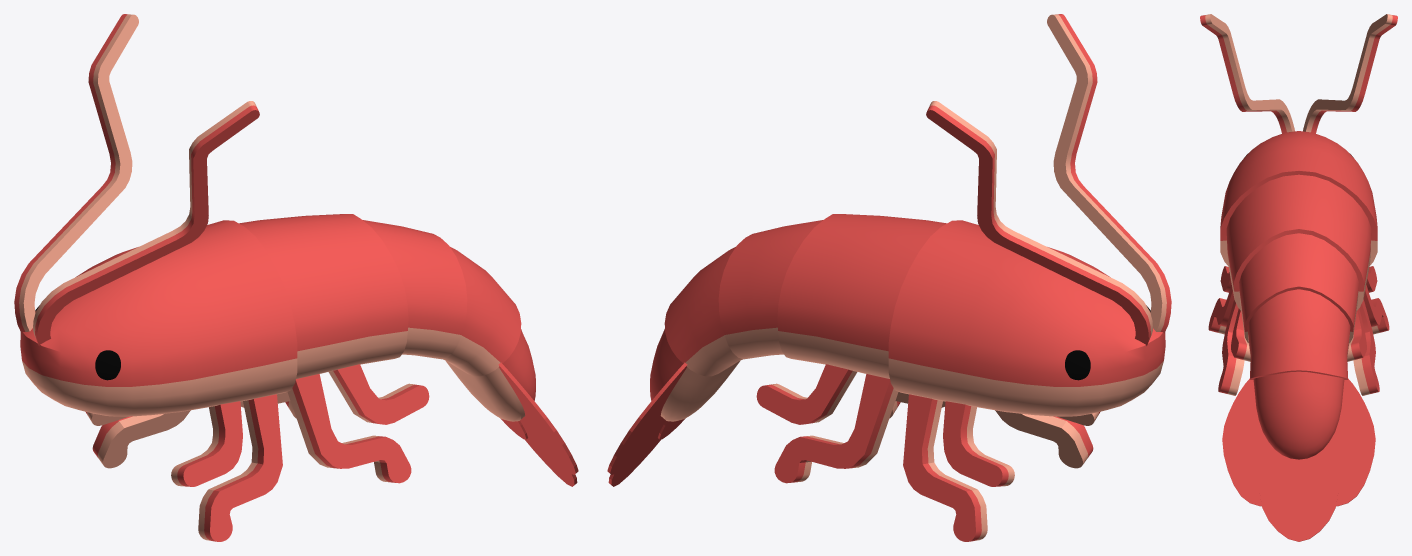
The model's file is shrimp.glb.
3 renders of one model, left to right at view 1: azimuth 30°, elevation 25°; view 2: azimuth 150°, elevation 25°; view 3: azimuth 270°, elevation 25°, orthographic. The views are drawn at different scales.
Visible parts, largest first — view 1: Cube.186; view 2: Cube.186; view 3: Cube.186.
Boxes of the visible parts, x1=… form: Cube.186: x1=14, y1=14, x2=578, y2=541; Cube.186: x1=607, y1=14, x2=1171, y2=541; Cube.186: x1=1200, y1=14, x2=1397, y2=541.
Size of the model in its own units: 2.07 by 1.88 by 0.8654.
Materials: 1 (1 with a texture image).
